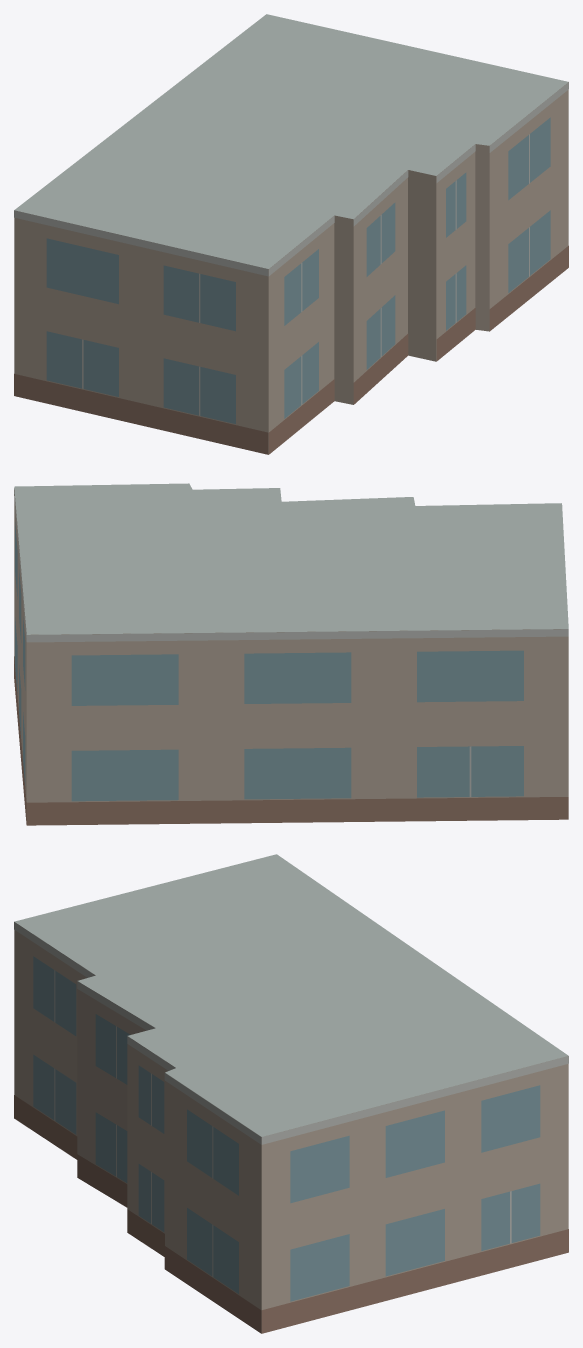
File: survey-upis-32770688.glb
3 renders of one model, top to bottom at view 1: azimuth 30°, elevation 25°; view 2: azimuth 150°, elevation 25°; view 3: azimuth 270°, elevation 25°, orthographic. The views are drawn at different scales.
Parts seen in each view (by area): view 1: survey-upis-32770688.tmp; view 2: survey-upis-32770688.tmp; view 3: survey-upis-32770688.tmp.
Part boxes in pixels (<box>): survey-upis-32770688.tmp: <box>14,14,568,454</box>; survey-upis-32770688.tmp: <box>14,483,568,825</box>; survey-upis-32770688.tmp: <box>14,854,568,1333</box>.
Size of the model in its own units: 18.83 by 6.1 by 15.6.
